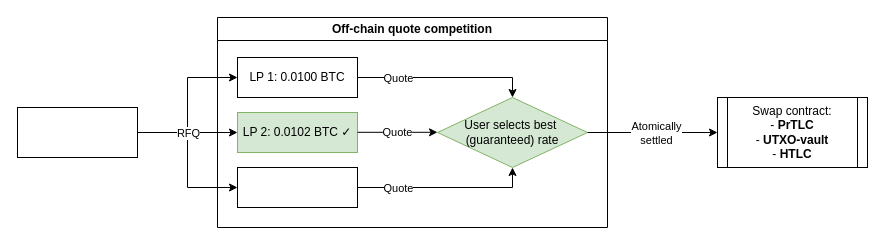
This 885x245 diagram has some shape labels left out. Here are the shapes that lost their labels. From the top down, the box of each, then its label:
(16, 106, 138, 158): User
(236, 166, 358, 208): LP 3: 0.0099 BTC
